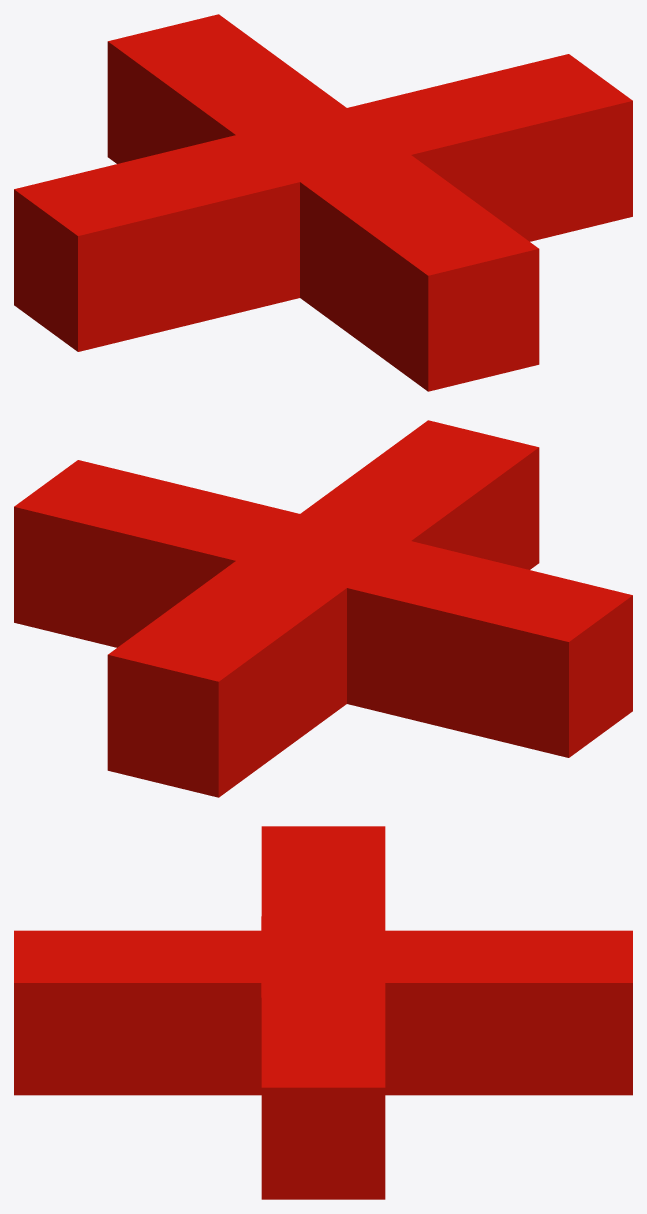
Rendered from cross.gltf.
3 views of the same model, one above another, from view 1: azimuth 30°, elevation 25°; view 2: azimuth 150°, elevation 25°; view 3: azimuth 270°, elevation 25° (orthographic). The views are drawn at different scales.
Parts seen in each view (by area): view 1: Cross; view 2: Cross; view 3: Cross.
Boxes of the visible parts, box(x1,y1,x2,y2) form: Cross: box(14, 14, 632, 391); Cross: box(14, 420, 632, 797); Cross: box(14, 826, 632, 1199).
Size of the model in its own units: 1 by 0.1997 by 1.
